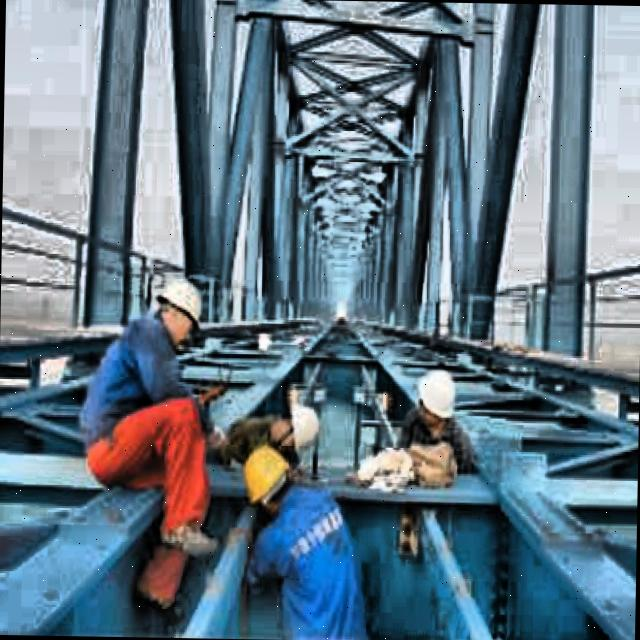helmet: (240, 438, 294, 514), (150, 274, 204, 347), (268, 404, 326, 458), (414, 365, 458, 432)
